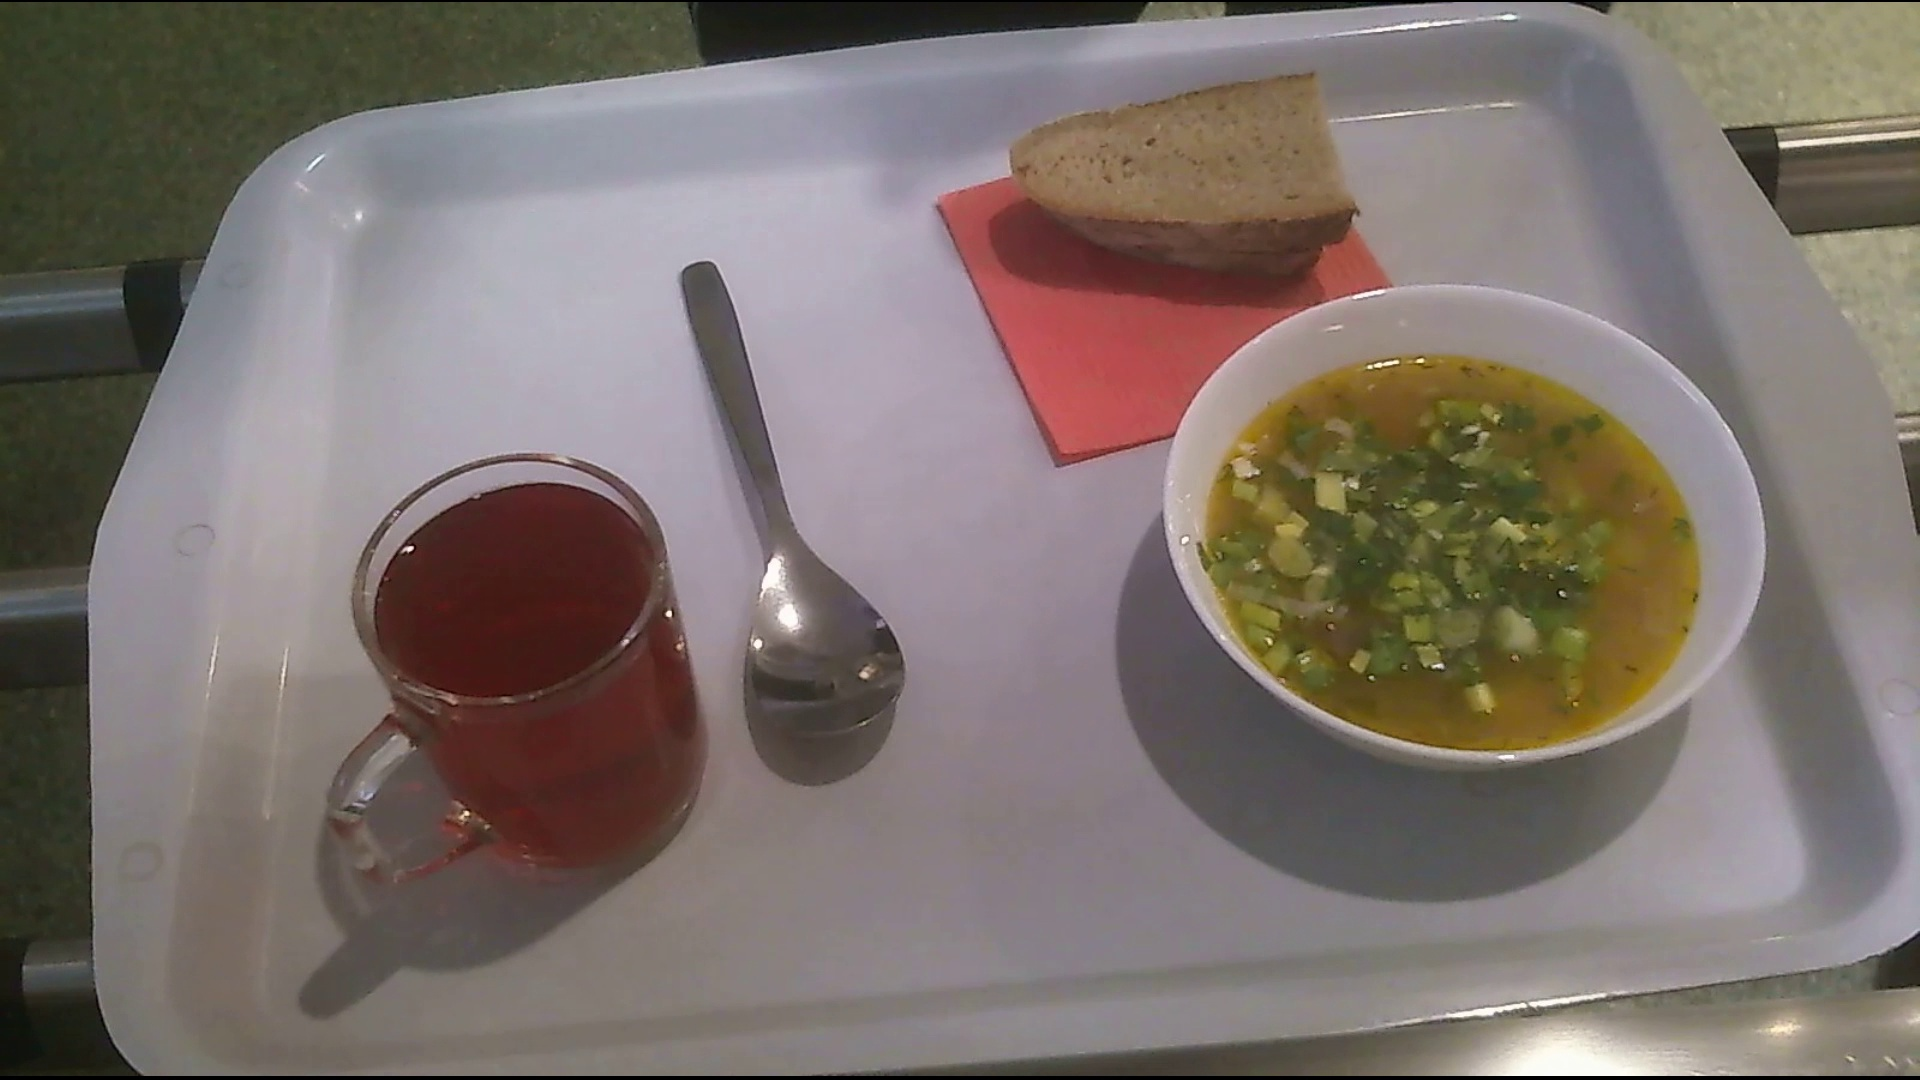bowl: (1167, 282, 1768, 796)
cutlery: (682, 255, 910, 771)
drink: (330, 444, 705, 897)
other: (1007, 74, 1364, 280)
